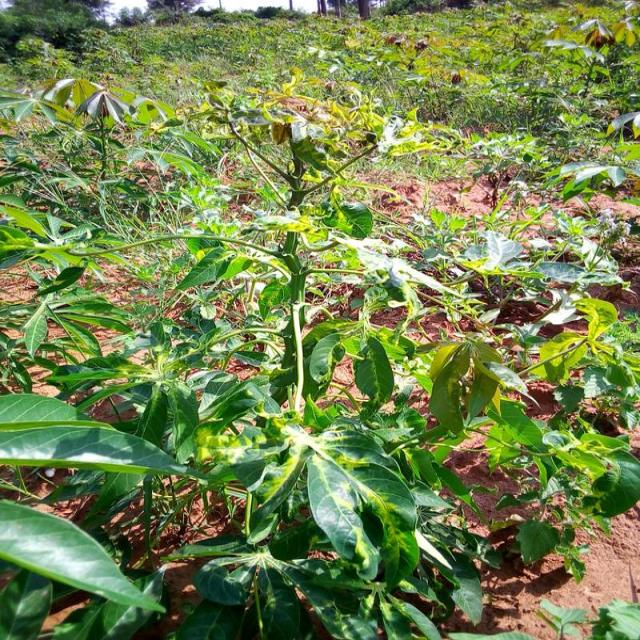cassava leaf: (1, 497, 167, 614)
